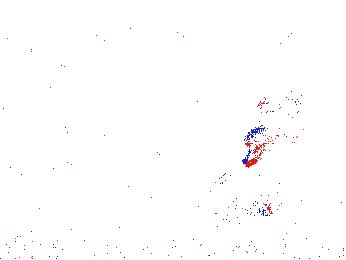flame jellyfish: (241, 87, 308, 167), (209, 169, 274, 219), (244, 156, 303, 205)
